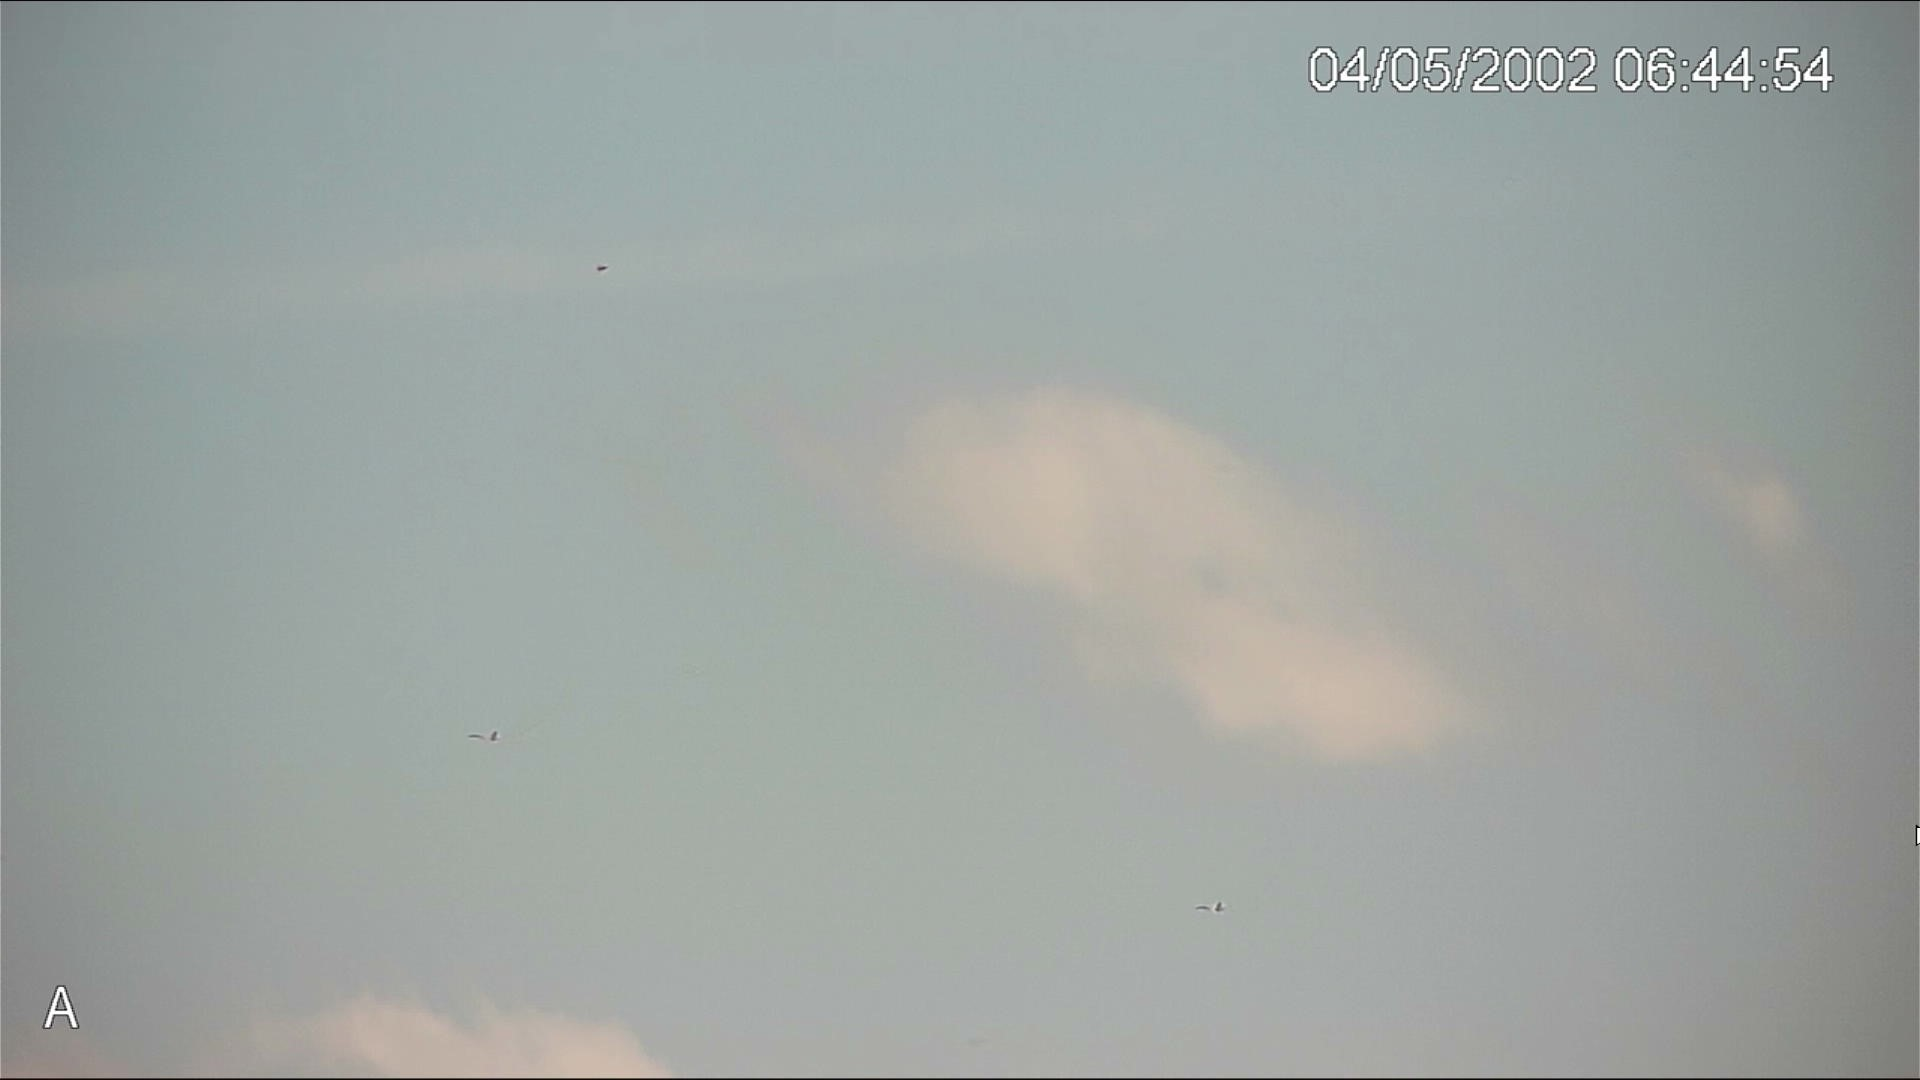SU_30: (1189, 901, 1229, 914), (465, 727, 498, 741)
